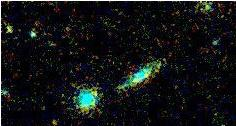star: (39, 106, 69, 126)
